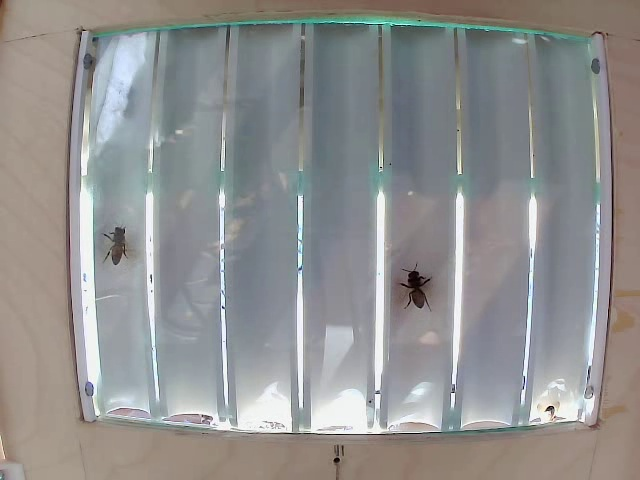bee: (102, 232, 139, 274), (408, 266, 435, 309)
